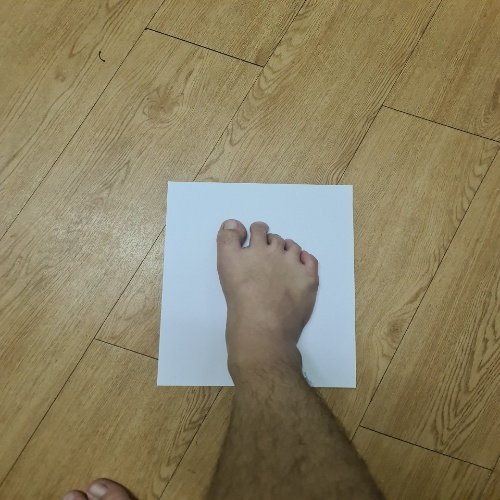Top_Foot: (137, 159, 383, 418)
